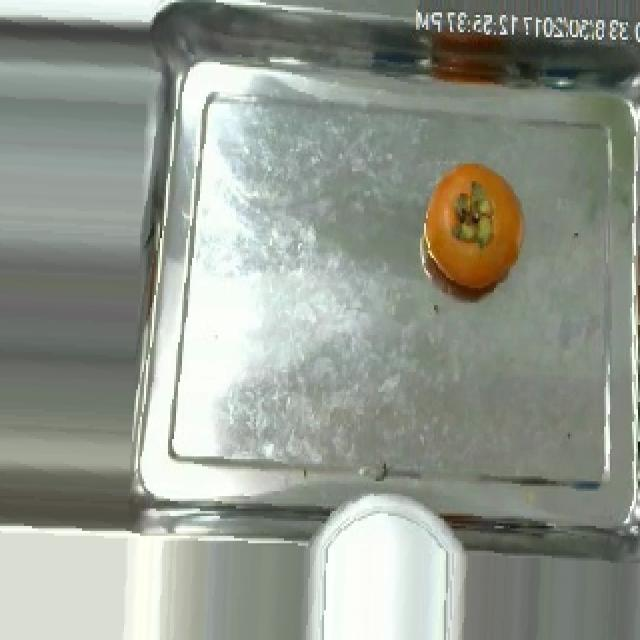Fruit: (418, 158, 528, 292)
